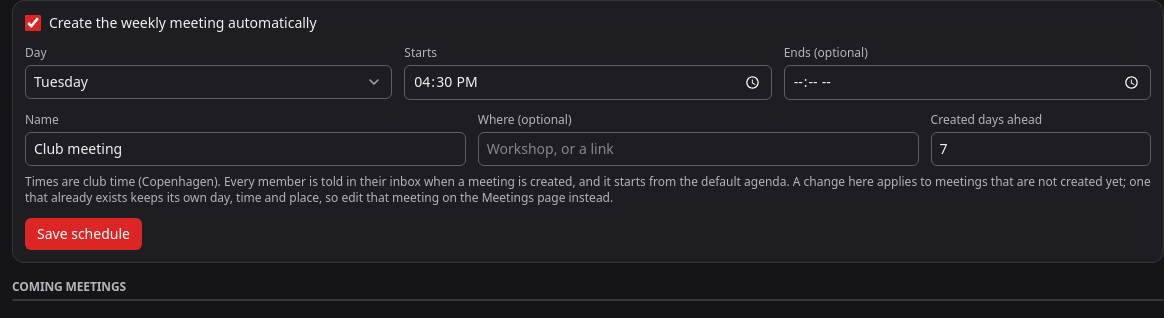
Test: the saved schedule › sends exactly what was changed, with the optional fields as null when empty
Select "Thursday" in the dropdown labelled "Day": (209, 82) [25, 65, 392, 99]
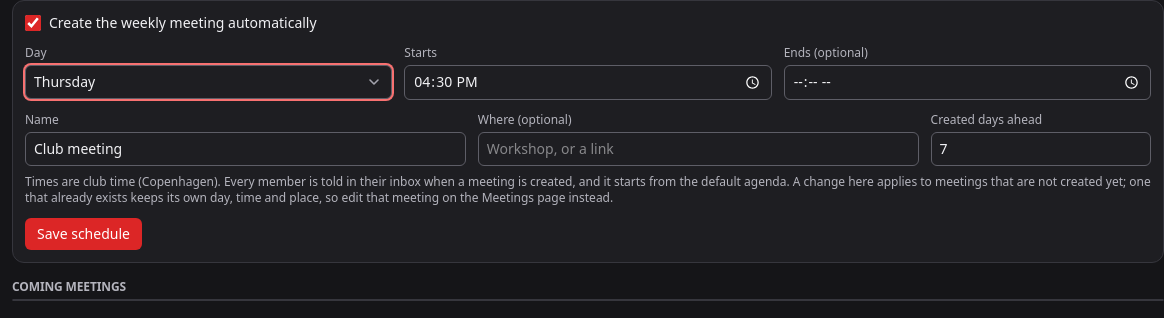
Replace the text in the field labelled "Name" with "  Thursday build  ": (245, 149) [25, 132, 466, 166]
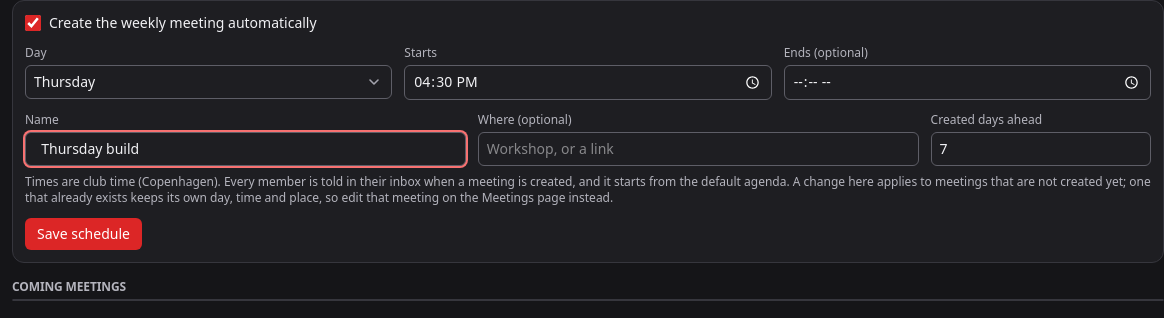
In the field labelled "Where (optional)": (698, 149) [478, 132, 919, 166], type "Workshop"
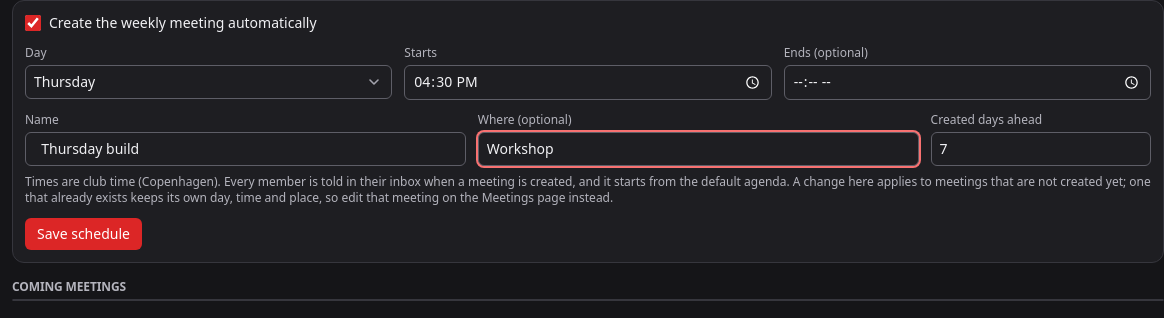
Click the button "Save schedule": (83, 234) [25, 218, 142, 250]
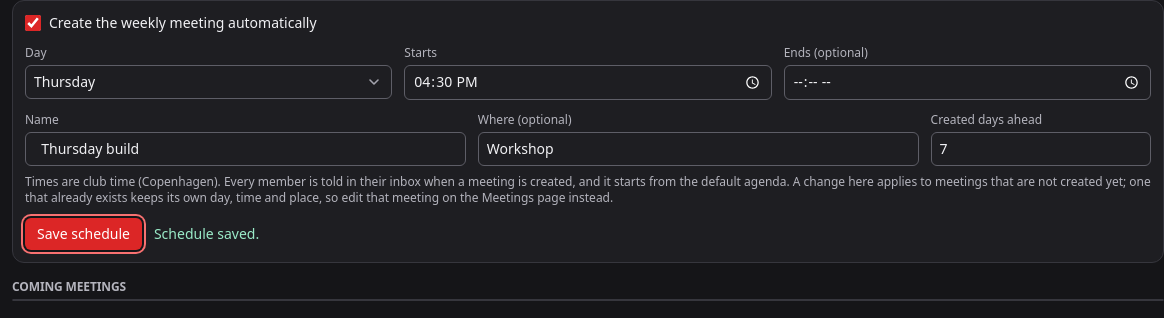
Check: the message "Schedule saved." is shown, box [154, 224, 259, 244]
